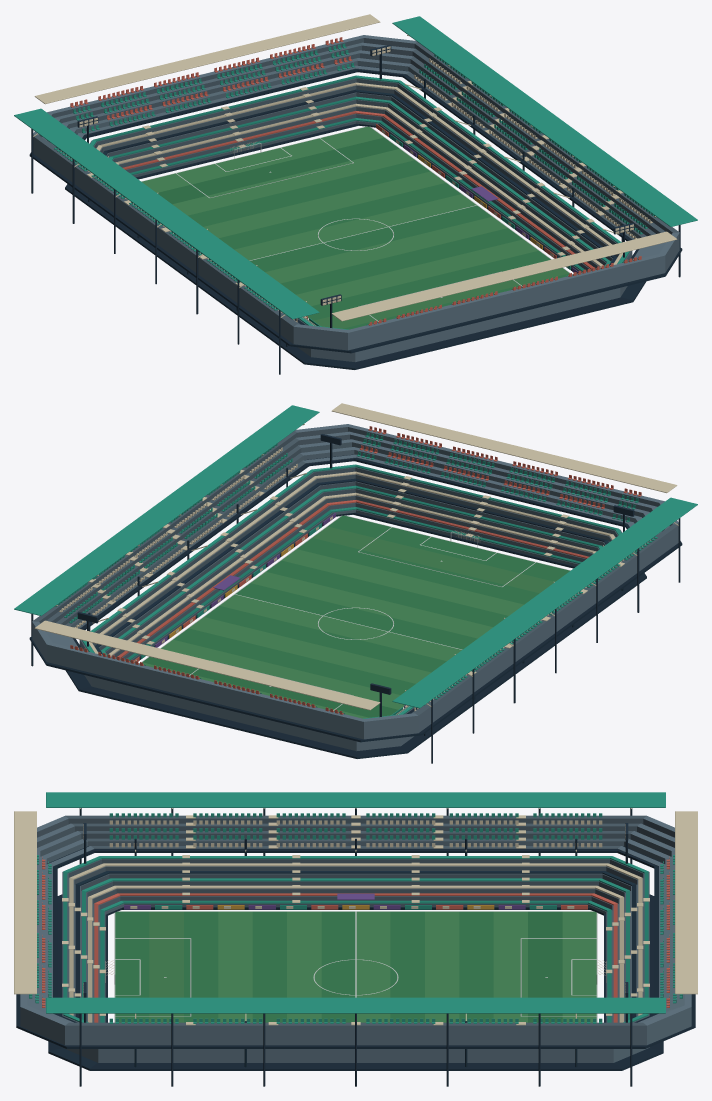
The model's file is soccer-stadium.glb.
3 renders of one model, top to bottom at view 1: azimuth 30°, elevation 25°; view 2: azimuth 150°, elevation 25°; view 3: azimuth 270°, elevation 25°, orthographic. The views are drawn at different scales.
Parts seen in each view (by area): view 1: pitch_surface, upper_stands, stand_shell, roof, seating, upper_seats, beams, field_markings, aisles, advertising_boards, upper_aisles, floodlights; view 2: pitch_surface, upper_stands, stand_shell, roof, seating, upper_seats, beams, field_markings, aisles, advertising_boards, upper_aisles, floodlights; view 3: pitch_surface, upper_stands, stand_shell, roof, seating, upper_seats, beams, advertising_boards, field_markings, aisles, upper_aisles.
Boxes of the visible parts, x1,y1,x2,y2 form: pitch_surface: (141, 126, 569, 329); upper_stands: (29, 35, 682, 353); stand_shell: (65, 78, 646, 369); roof: (14, 14, 697, 321); seating: (90, 75, 629, 329); upper_seats: (54, 37, 656, 325); beams: (31, 35, 680, 374); field_markings: (141, 126, 570, 321); aisles: (142, 87, 594, 317); advertising_boards: (306, 124, 578, 326); upper_aisles: (87, 80, 623, 288); floodlights: (77, 45, 634, 305); pitch_surface: (142, 515, 570, 718); upper_stands: (29, 424, 682, 742); stand_shell: (65, 467, 646, 758); roof: (14, 403, 697, 710); seating: (82, 464, 621, 718); upper_seats: (55, 426, 657, 714); beams: (31, 424, 680, 763); field_markings: (141, 515, 570, 710); aisles: (117, 476, 569, 706); advertising_boards: (133, 513, 405, 715); upper_aisles: (88, 469, 624, 677); floodlights: (77, 434, 634, 694); pitch_surface: (115, 911, 596, 1022); upper_stands: (16, 815, 695, 1048); stand_shell: (48, 859, 663, 1070); roof: (14, 792, 697, 1013); seating: (63, 856, 648, 1022); upper_seats: (29, 813, 682, 1023); beams: (79, 808, 632, 1086); advertising_boards: (124, 905, 587, 909); field_markings: (114, 911, 597, 1022); aisles: (62, 855, 649, 1015); upper_aisles: (186, 815, 525, 1025).
Size of the model in its own units: 114 by 18.12 by 149.
